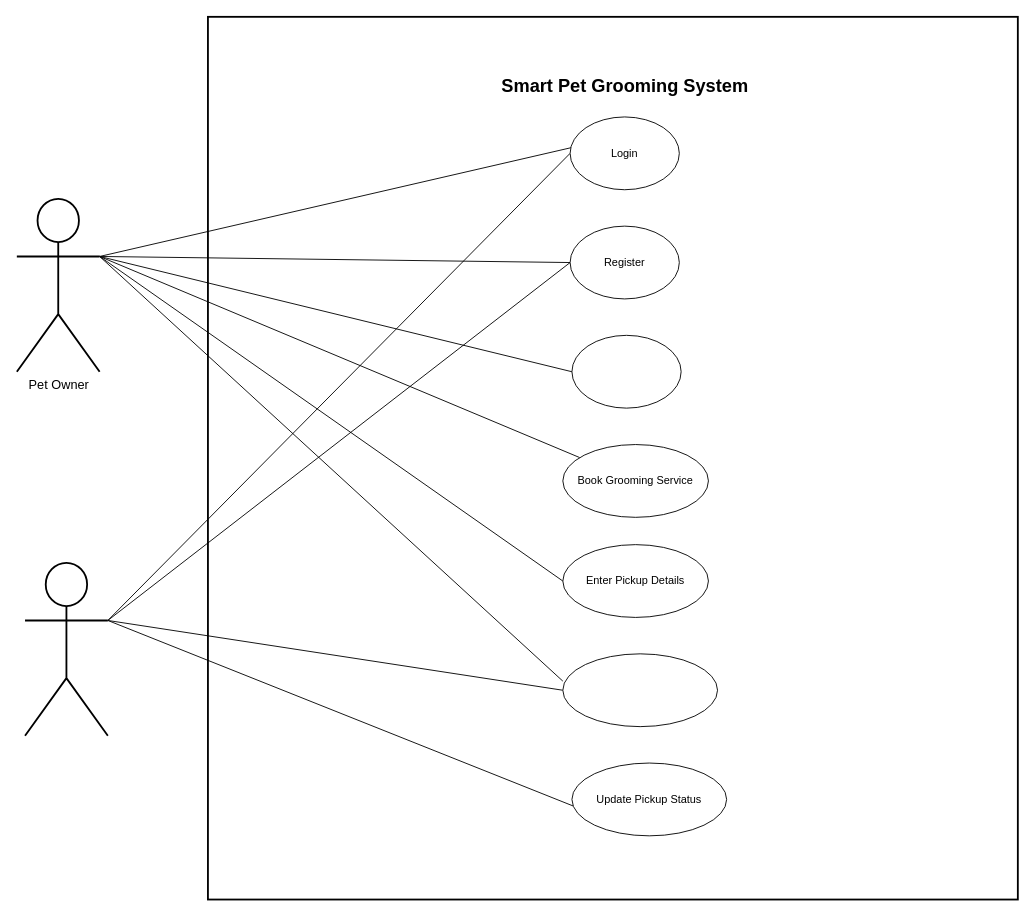
Image size: 1034x915. Some labels were removed from this diagram. Each missing label, with the centre of its shape:
Add Pet Information: (x=626, y=371)
Staff: (x=66, y=648)
View Booking Status: (x=640, y=690)
